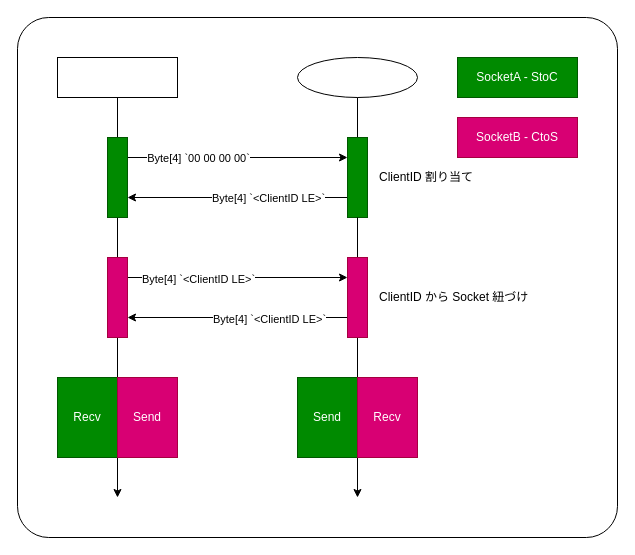
This 635x555 diagram has some shape labels left out. Here are the shapes that lost their labels. From the top down, the centre of each, then its label:
point 117,77: Client
point 357,77: Server
